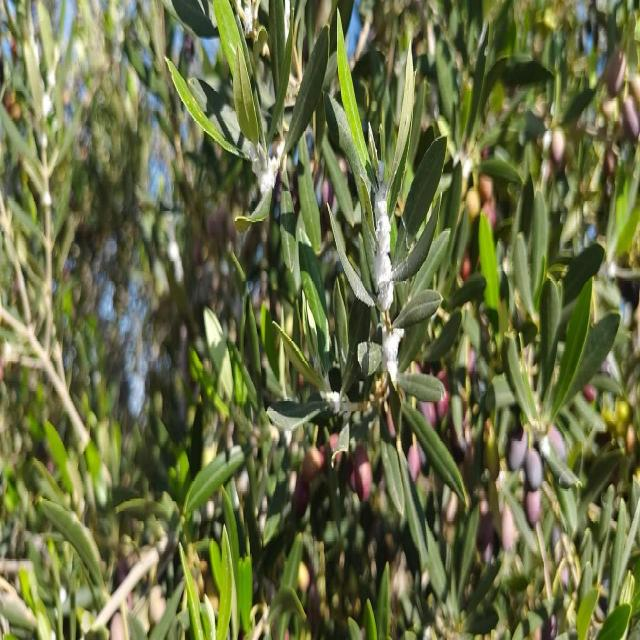Healthy: (336, 0, 371, 168), (286, 26, 328, 153)
Psyllid: (373, 156, 404, 388), (314, 356, 351, 422), (248, 134, 285, 198)
